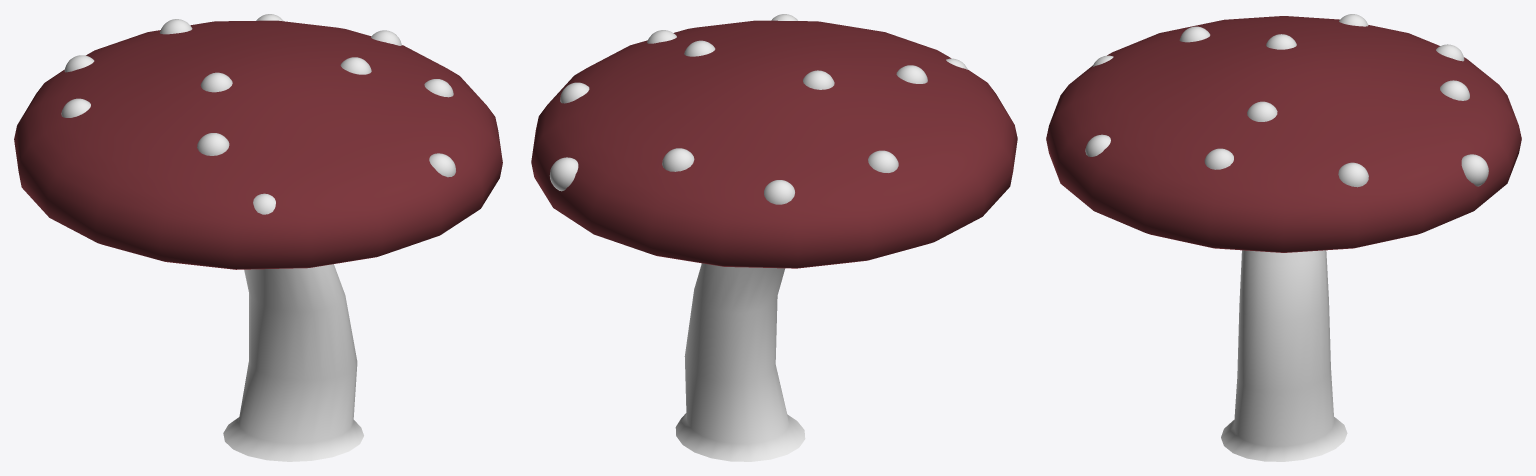
The model's file is Mushroom1V2.fbx.
3 views of the same model, side by side, from view 1: azimuth 30°, elevation 25°; view 2: azimuth 150°, elevation 25°; view 3: azimuth 270°, elevation 25° (orthographic). The views are drawn at different scales.
Visible parts, largest first — view 1: pSphere1, pCylinder1, pSphere8, pSphere10; view 2: pSphere1, pCylinder1, pSphere3, pSphere9, pSphere2, pSphere7; view 3: pSphere1, pCylinder1, pSphere3, pSphere6, pSphere12, pSphere5.
Part boxes in pixels (bbox=[...]): pSphere1: bbox=[14, 20, 502, 269]; pCylinder1: bbox=[223, 264, 363, 461]; pSphere8: bbox=[197, 133, 229, 155]; pSphere10: bbox=[200, 72, 232, 92]; pSphere1: bbox=[531, 20, 1017, 268]; pCylinder1: bbox=[675, 263, 805, 461]; pSphere3: bbox=[549, 157, 578, 191]; pSphere9: bbox=[764, 180, 794, 204]; pSphere2: bbox=[662, 148, 694, 171]; pSphere7: bbox=[868, 150, 898, 172]; pSphere1: bbox=[1046, 16, 1521, 252]; pCylinder1: bbox=[1221, 250, 1347, 461]; pSphere3: bbox=[1461, 154, 1488, 186]; pSphere6: bbox=[1338, 162, 1368, 187]; pSphere12: bbox=[1204, 148, 1233, 169]; pSphere5: bbox=[1247, 101, 1277, 121].
Bounding box in the file's own units: 2.34 × 2.01 × 2.39.
